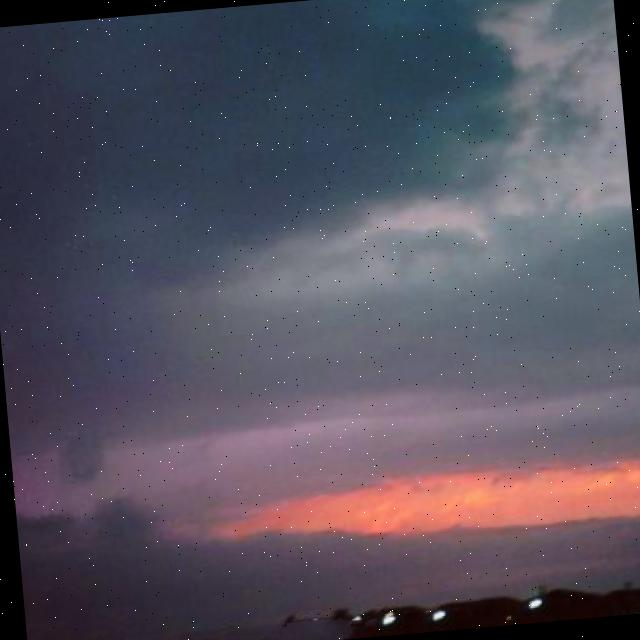St: (1, 1, 640, 460)
